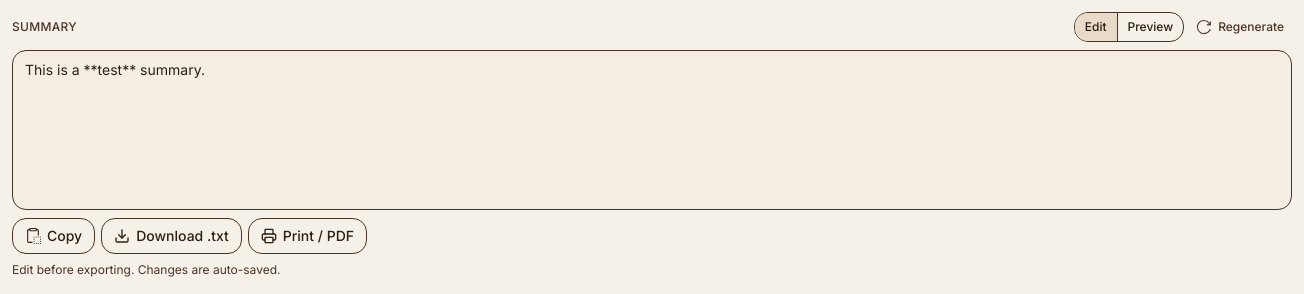
Test: SummaryOutput › share / copy button › falls back to clipboard copy when the Web Share API is unavailable
What coordinates should you click on to do the following:
click the button "Copy"
I would click on:
 (54, 236)
Its box is [12,218,95,254].
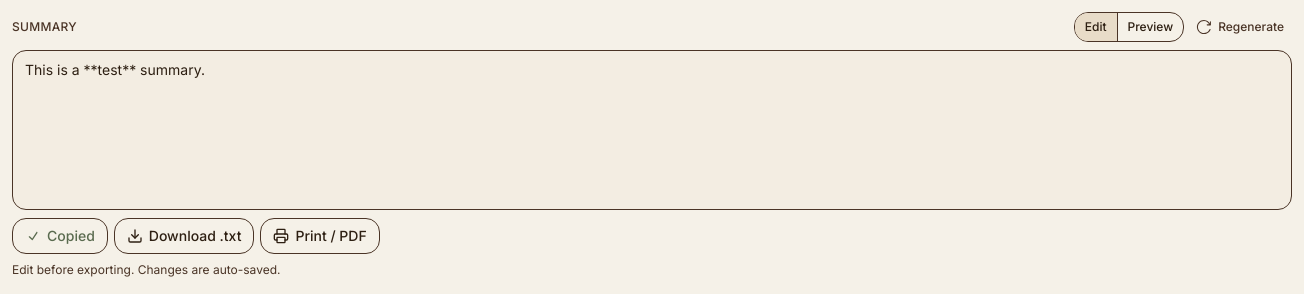
Expected: the text "Copied" is shown, [47,226,95,246]
